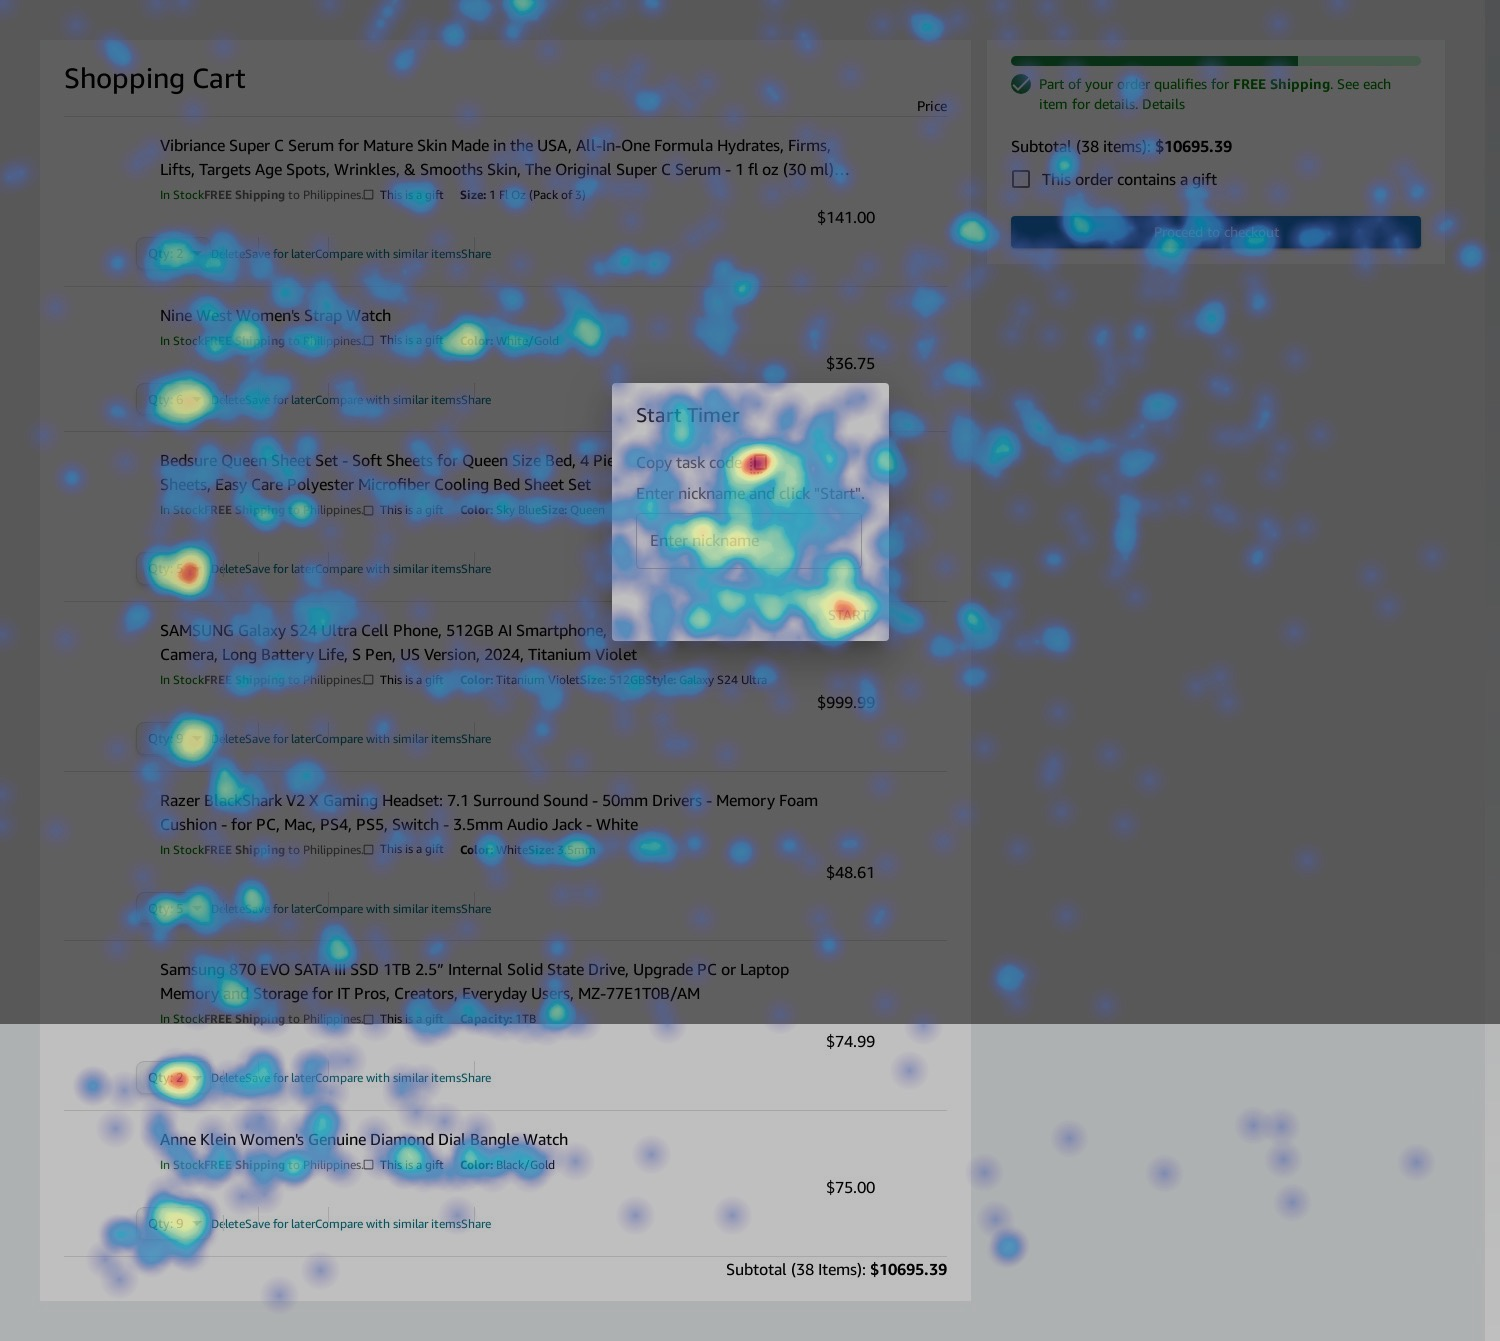checkout: (1009, 214, 1421, 250)
nickname: (635, 516, 865, 567)
qty: (142, 381, 217, 419), (142, 551, 217, 590), (142, 715, 217, 753), (144, 887, 219, 925), (140, 1058, 215, 1096), (136, 1204, 211, 1243), (137, 236, 212, 273)
start: (804, 592, 884, 636)
task_code: (739, 447, 778, 482)
